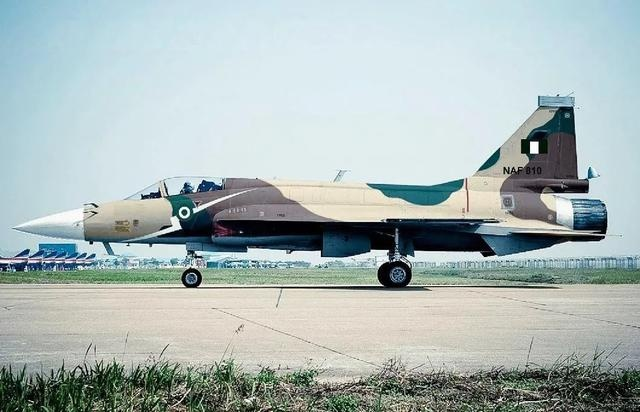airplane: (4, 86, 609, 295)
